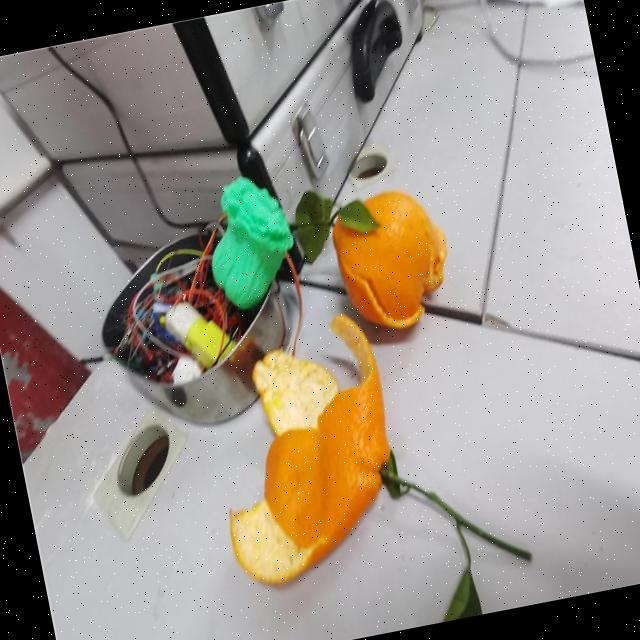orange-peel: (191, 308, 416, 592), (323, 180, 461, 338)
